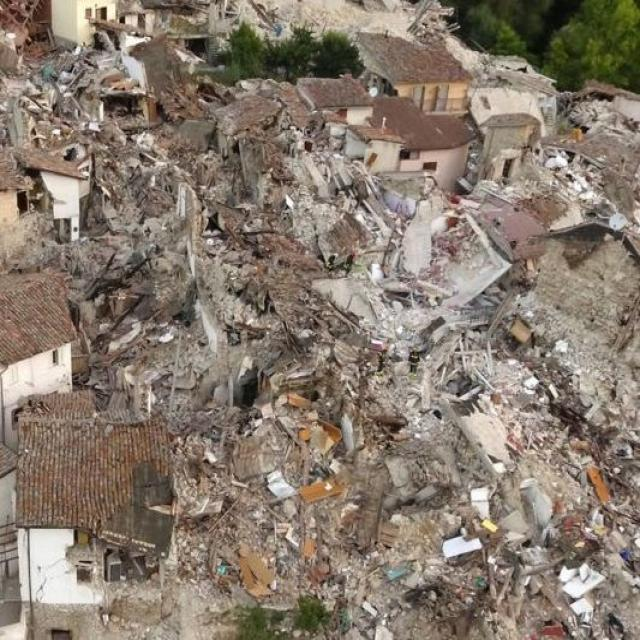collapsed_building: (8, 20, 360, 394), (373, 24, 567, 246), (16, 395, 179, 639)
